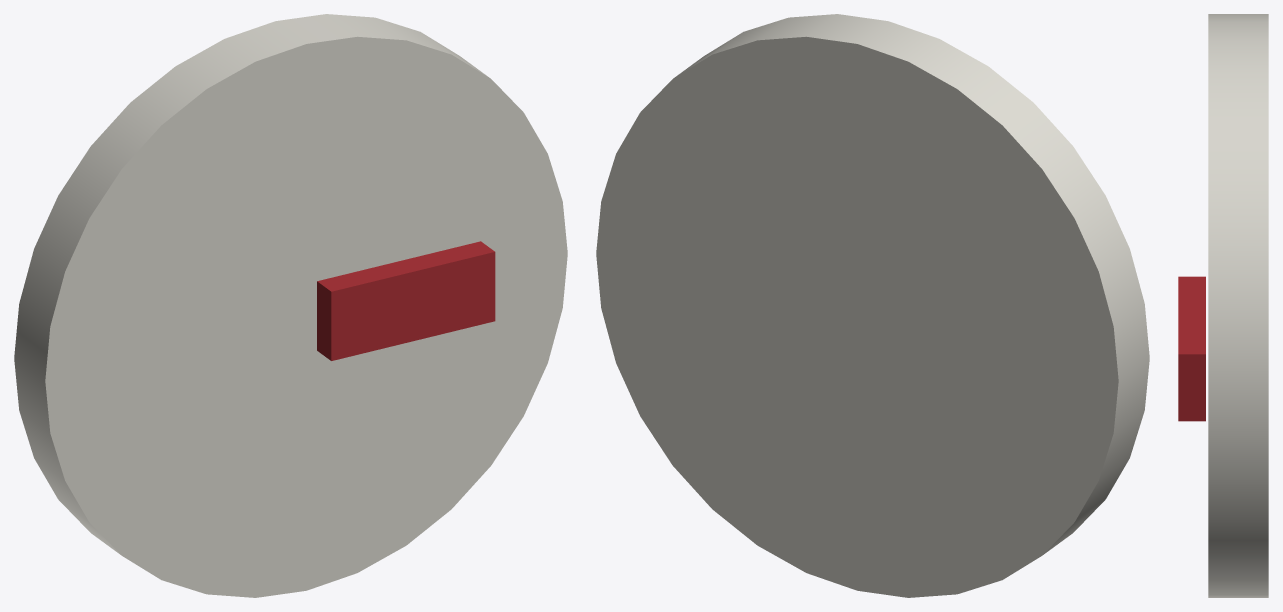
The model's file is dart_draco.cover.glb.
The picture shows the model from 3 angles, left to right: view 1: azimuth 30°, elevation 25°; view 2: azimuth 150°, elevation 25°; view 3: azimuth 270°, elevation 25°; orthographic projection. The views are drawn at different scales.
Visible parts, largest first — view 1: dart_draco.cover.mesh_Warm_white_enamel, dart_draco.cover.mesh_Red_equipment_marking; view 2: dart_draco.cover.mesh_Warm_white_enamel; view 3: dart_draco.cover.mesh_Warm_white_enamel, dart_draco.cover.mesh_Red_equipment_marking.
Boxes of the visible parts, x1,y1,x2,y2 form: dart_draco.cover.mesh_Warm_white_enamel: [14, 14, 567, 597]; dart_draco.cover.mesh_Red_equipment_marking: [317, 241, 495, 360]; dart_draco.cover.mesh_Warm_white_enamel: [596, 14, 1149, 597]; dart_draco.cover.mesh_Warm_white_enamel: [1208, 14, 1268, 597]; dart_draco.cover.mesh_Red_equipment_marking: [1178, 276, 1205, 421].
Size of the model in its own units: 0.252 by 0.252 by 0.039.
